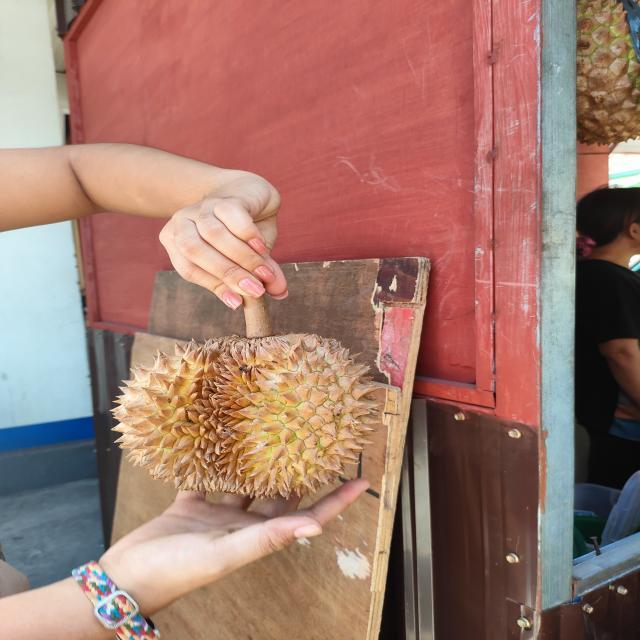mature: (107, 332, 383, 502)
